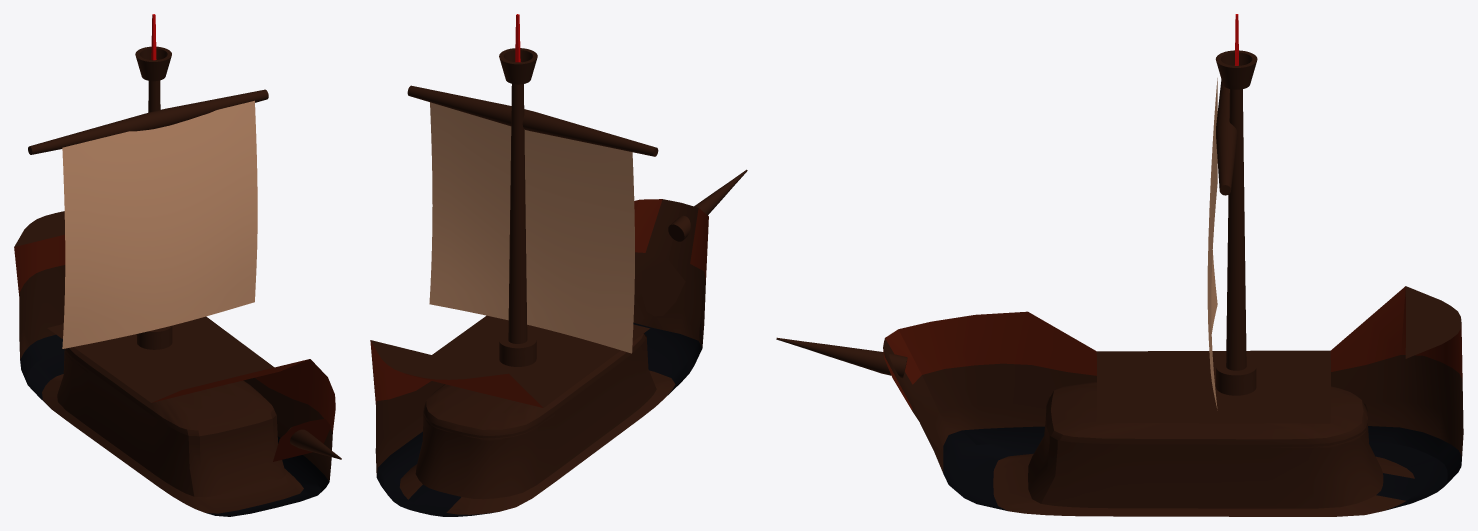
Rendered from ship_mesh_neph.obj.
The picture shows the model from 3 angles, left to right: view 1: azimuth 30°, elevation 25°; view 2: azimuth 150°, elevation 25°; view 3: azimuth 270°, elevation 25°; orthographic projection. The views are drawn at different scales.
Parts seen in each view (by area): view 1: Plane; view 2: Plane; view 3: Plane.
Part boxes in pixels (x1=…): Plane: x1=14, y1=14, x2=341, y2=516; Plane: x1=370, y1=14, x2=747, y2=516; Plane: x1=776, y1=14, x2=1463, y2=516.
Size of the model in its own units: 6.8 by 11.43 by 15.15.
